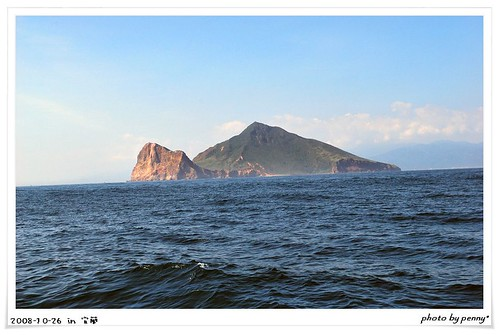turtleIslandLeft: (127, 111, 406, 178)
